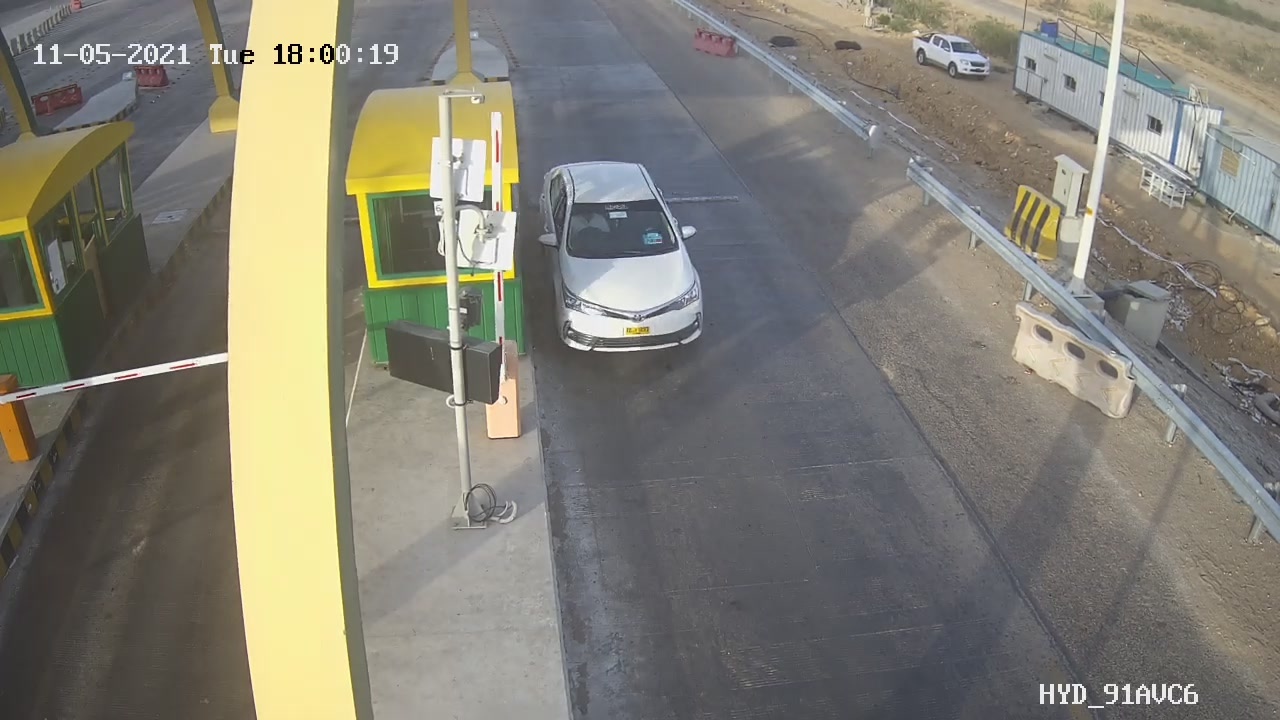F1: (529, 152, 711, 363)
